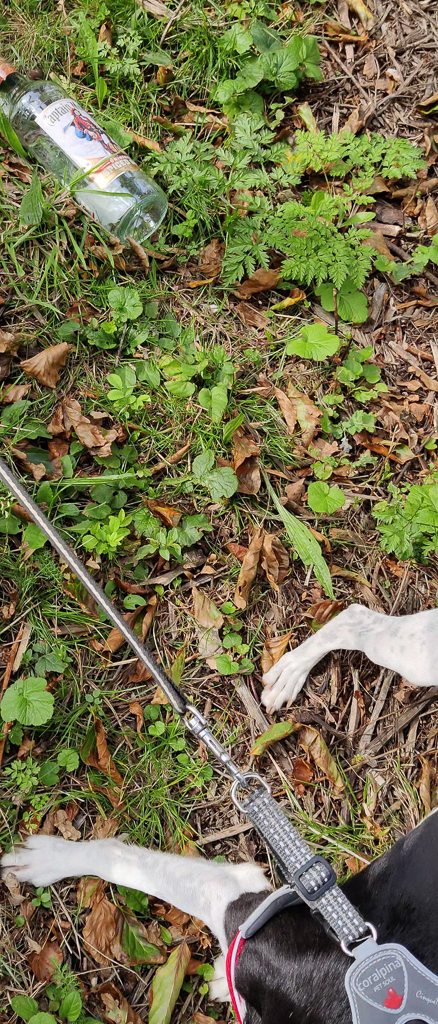Dog: (0, 589, 438, 1024)
